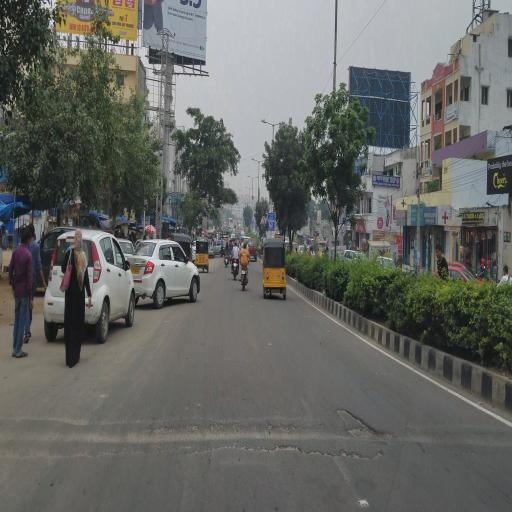street_light_0: (258, 114, 274, 129), (243, 164, 253, 184), (248, 147, 258, 165), (252, 168, 262, 186)
